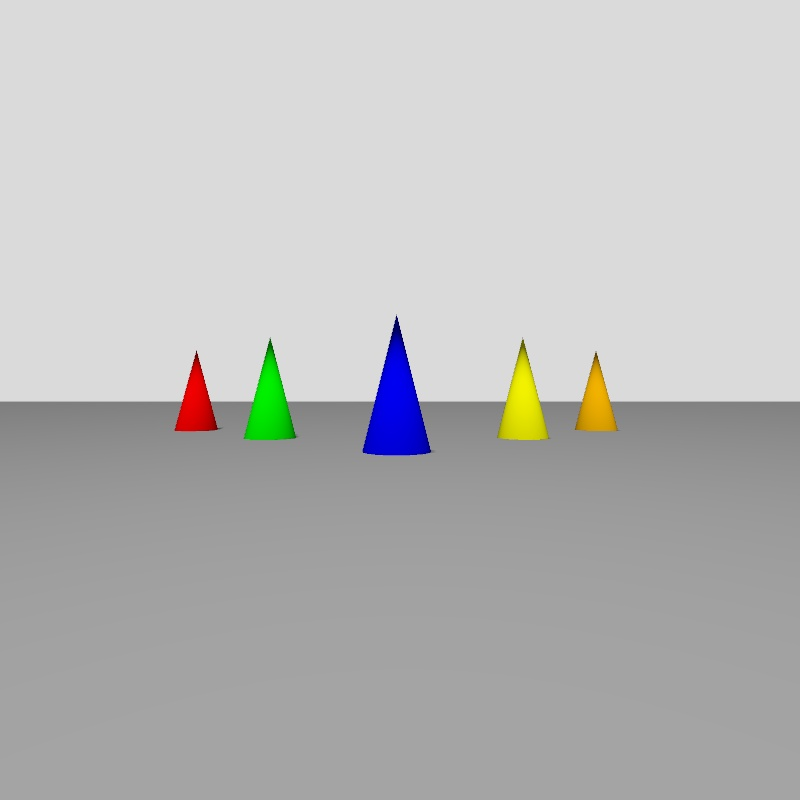Blue_cone: (362, 318, 430, 455)
Green_cone: (245, 340, 296, 439)
Orange_cone: (577, 353, 617, 430)
Red_cone: (174, 352, 217, 431)
Yellow_cone: (498, 339, 548, 438)
